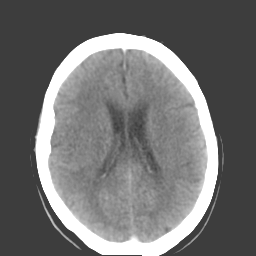ischemic: (51, 95, 104, 208)
